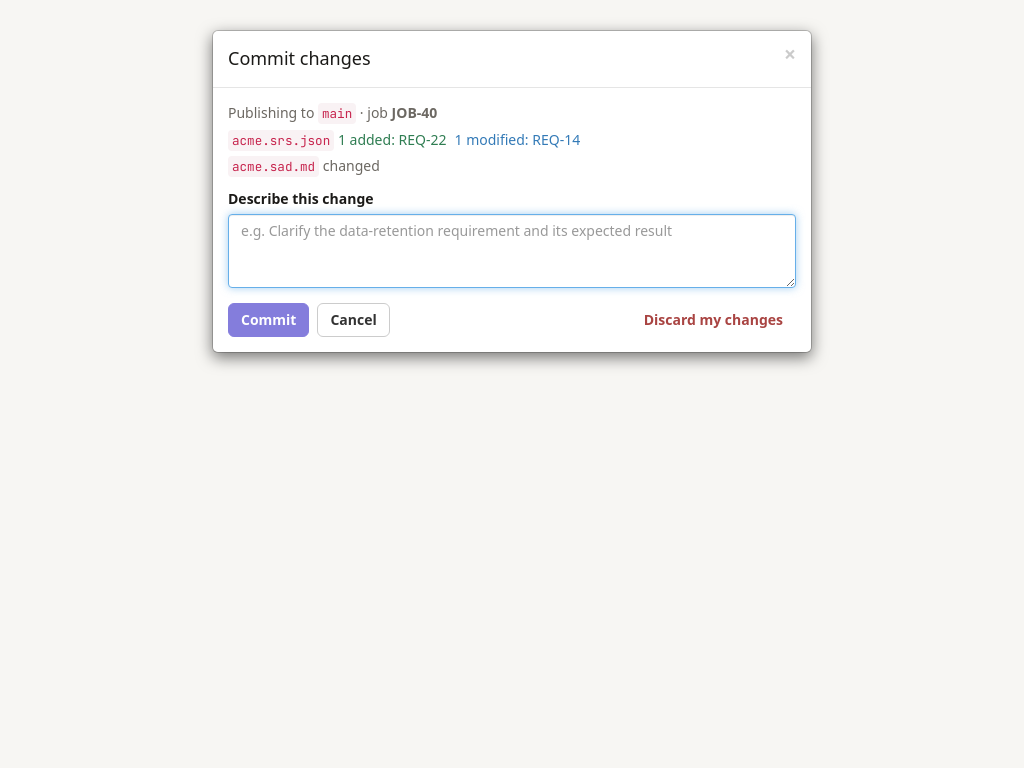
it: CommitDialog — refusals (CMT-4) › shows why a blocked commit was refused
Replace the text in the text box labelled "Describe this change" with "x" at (512, 252), box [228, 214, 796, 288]
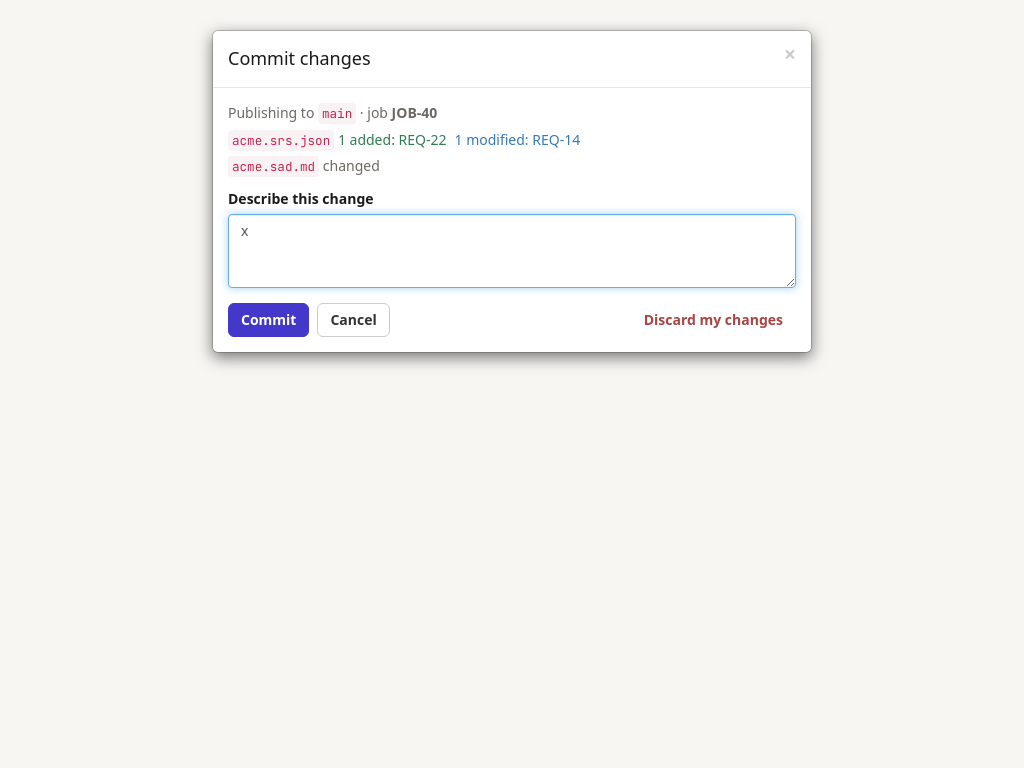
Click the button "Commit" at (269, 320), box [228, 304, 309, 338]
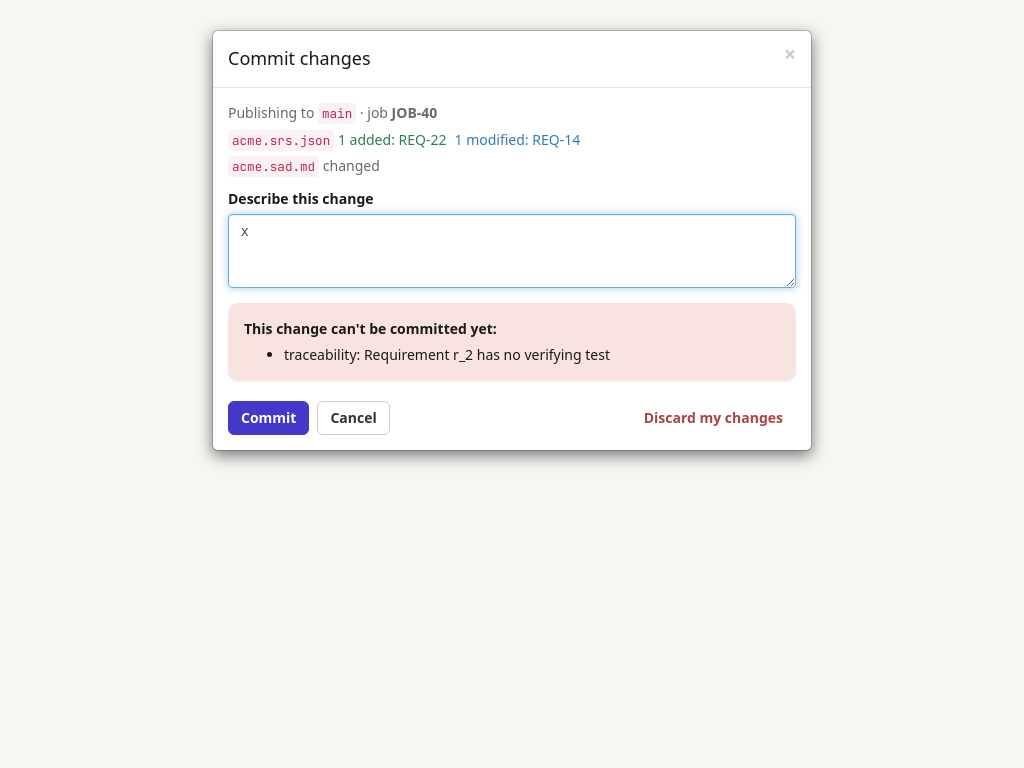
Expected: the list item "traceability: Requirement r_2 has no verifying test" is shown, [284, 346, 610, 364]
